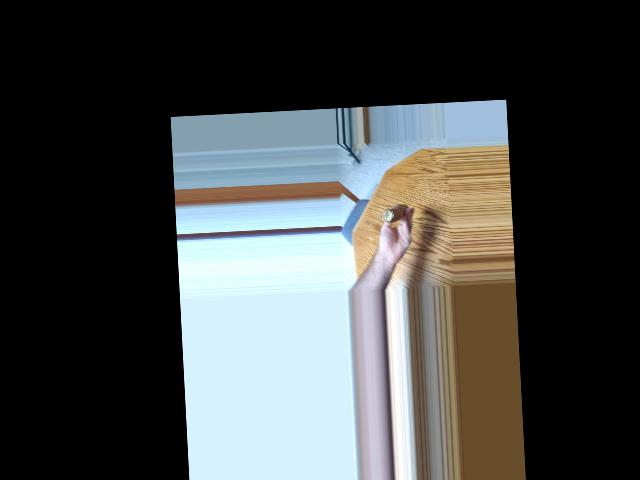sweet_potato: (378, 203, 410, 228)
